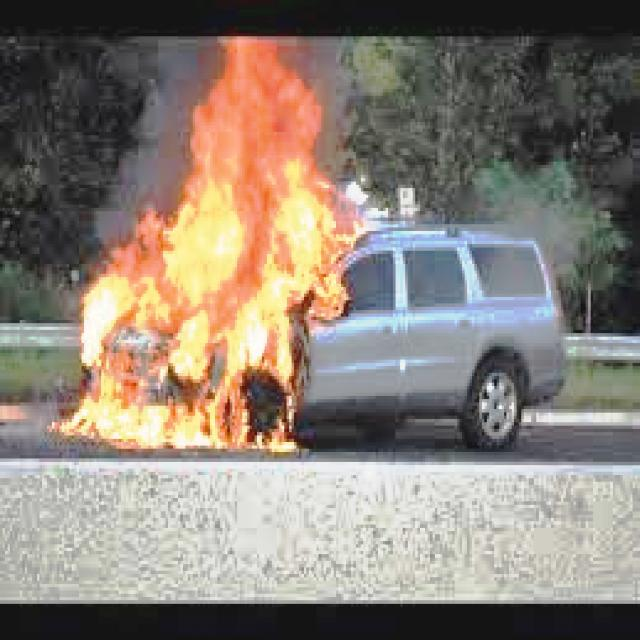api: (73, 87, 369, 460)
